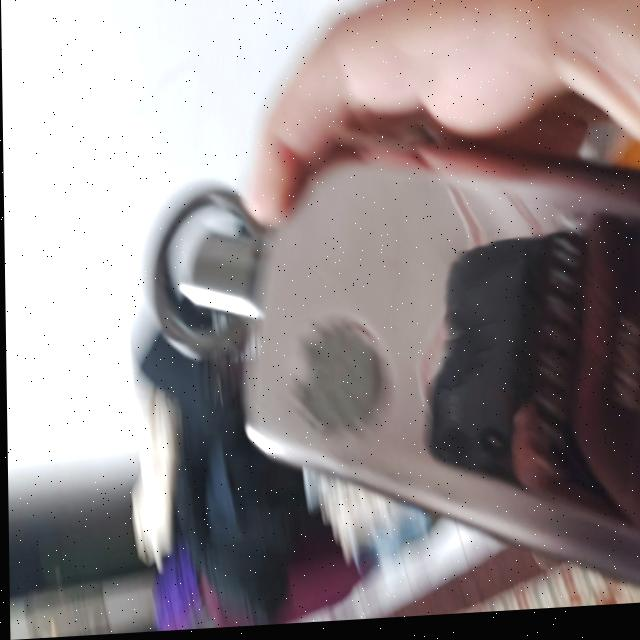Afnan: (134, 142, 640, 622)
